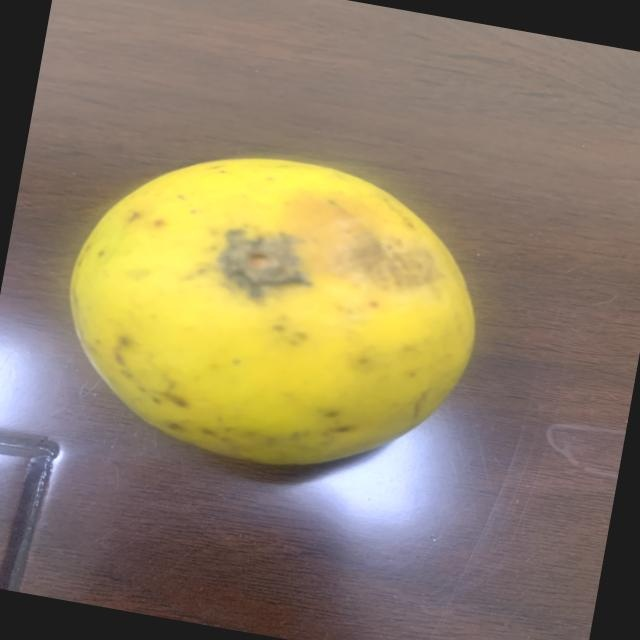agrume: (40, 127, 512, 501)
